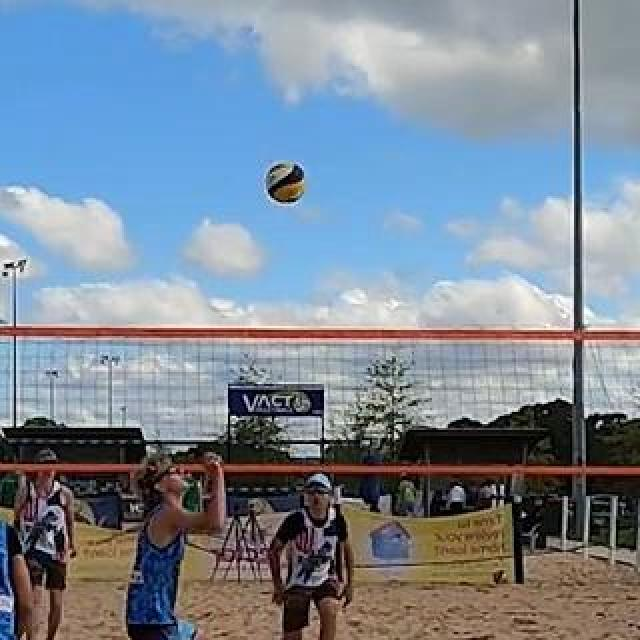volleyball: (266, 161, 306, 203), (492, 569, 508, 585)
